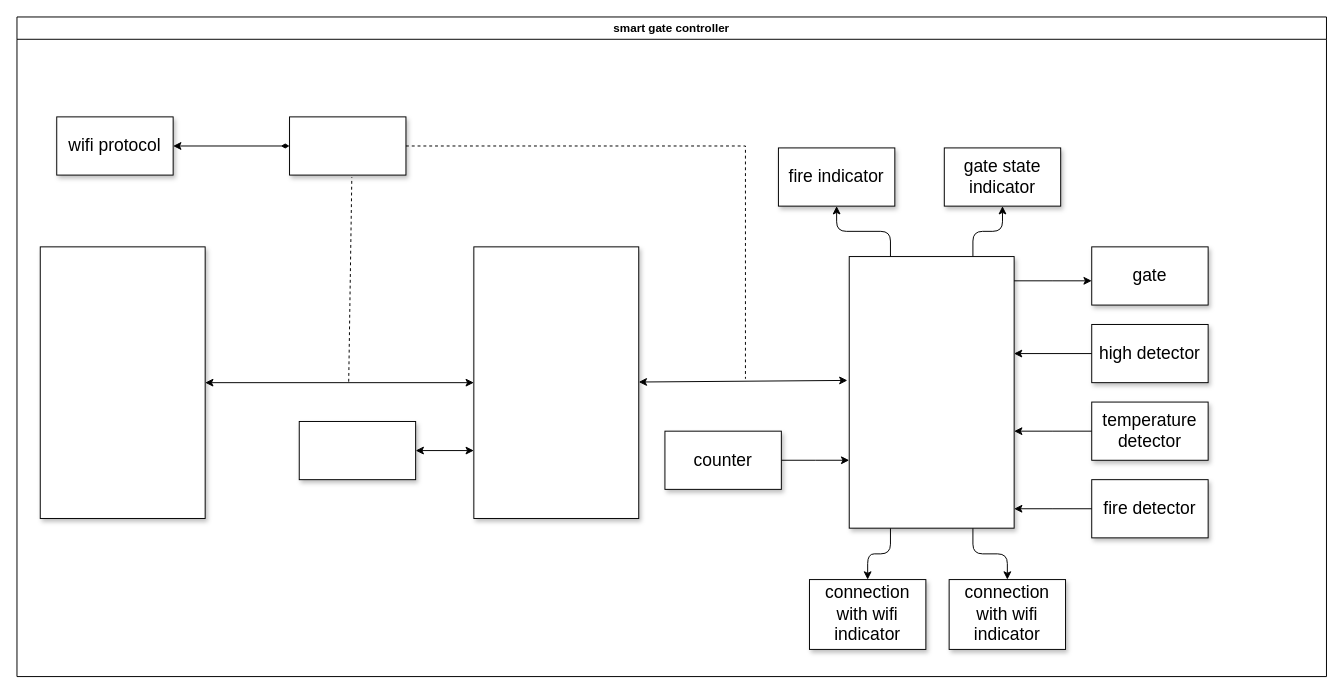
This 1343x694 diagram has some shape labels left out. The centre of each missing label's shape, as x and y in pixels:
client: [123,383]
data base: [357,451]
mqtt protocol: [348,147]
node: [932,393]
server: [557,383]
